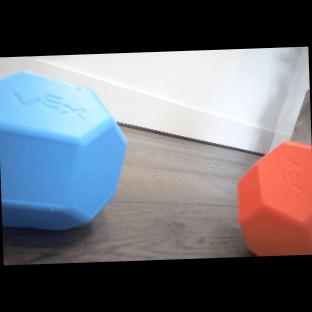V5_BLUE: (0, 68, 131, 234)
V5_RED: (236, 142, 312, 257)
